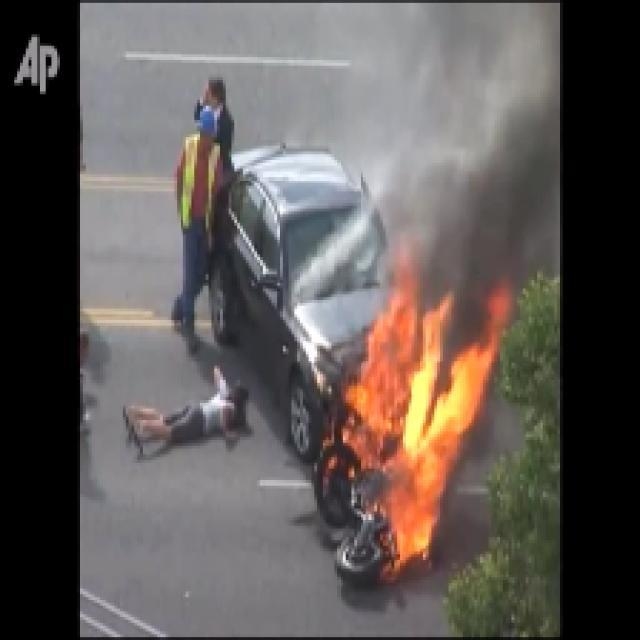Fire: (318, 231, 528, 584)
Smoke: (377, 4, 558, 292)
